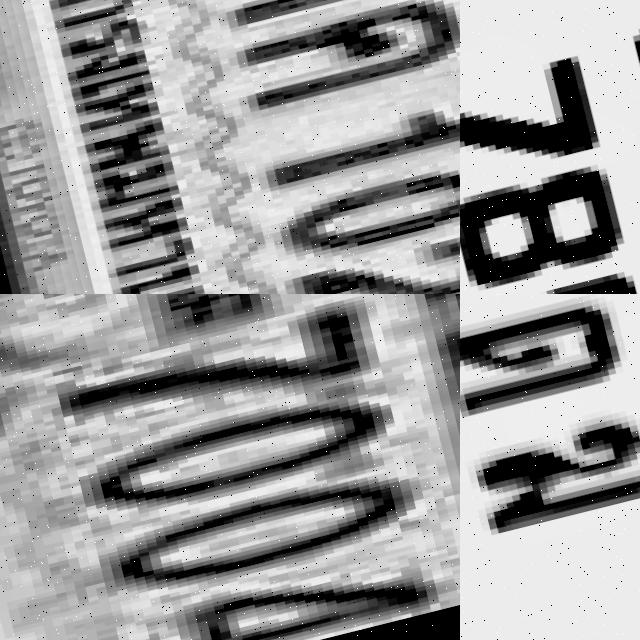license-plate: (0, 294, 460, 640), (0, 0, 460, 294), (460, 294, 640, 640), (460, 0, 640, 294)
